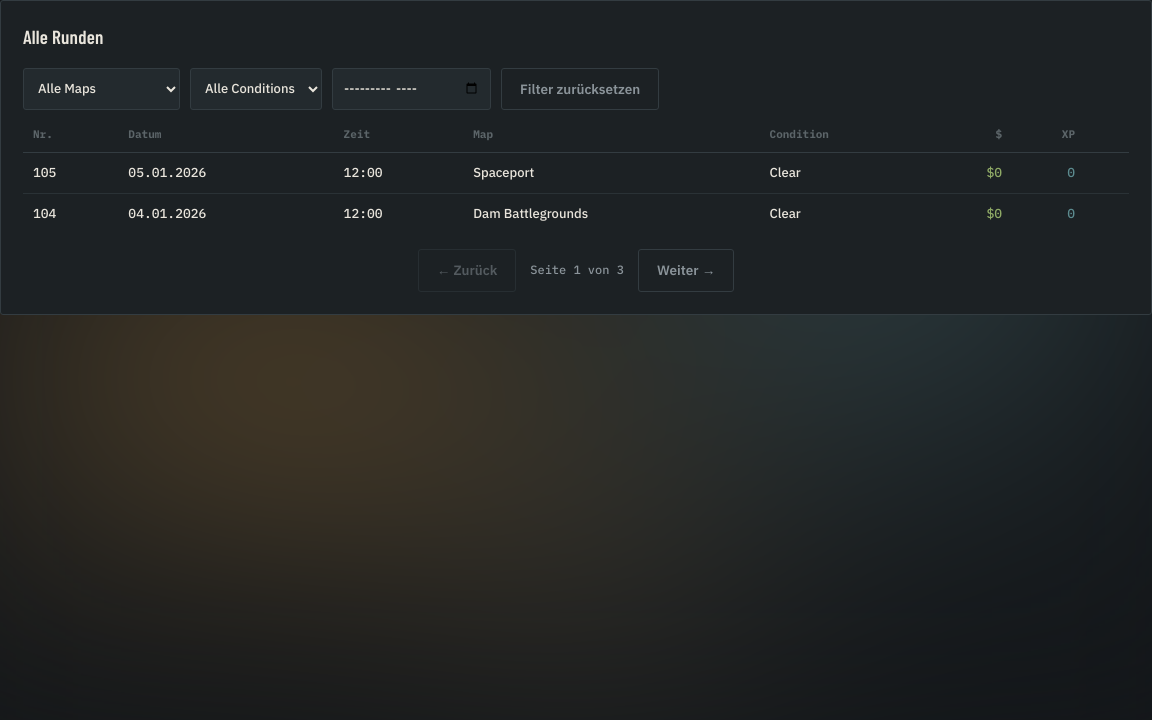
Test: ListView pagination › jumps back to page 1 when a filter changes
Step 1. Click the button "Weiter →" → point(686, 270), box [638,249,734,292]
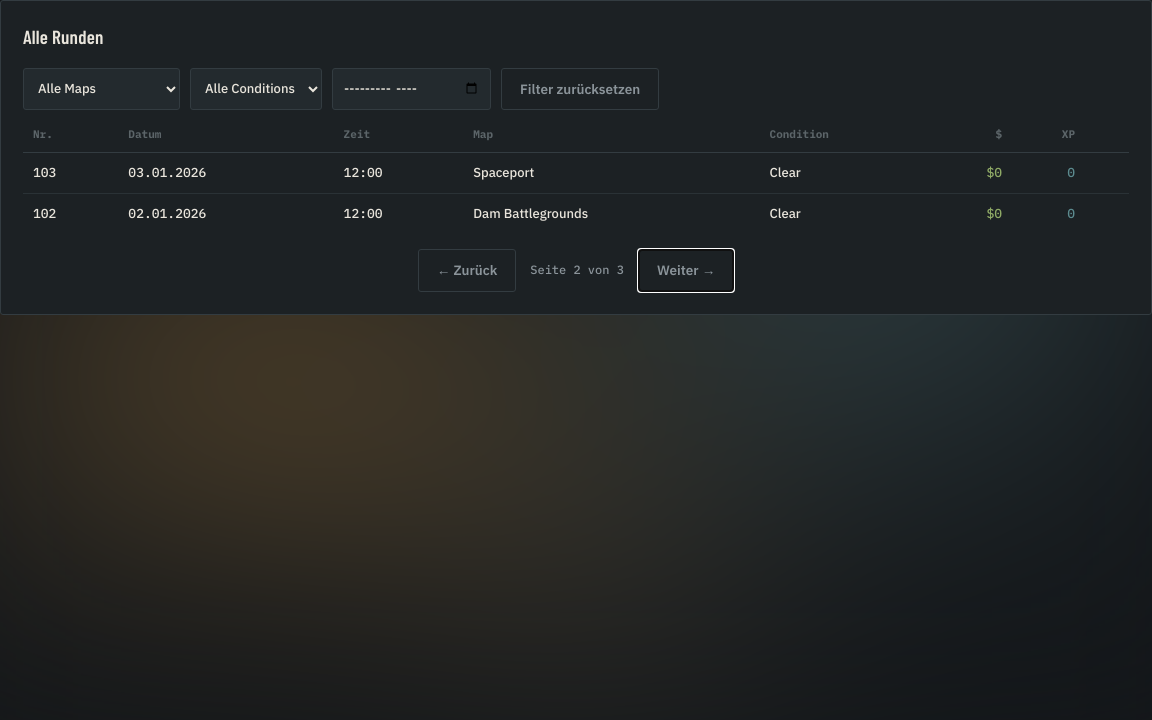
Result: the text "Seite 2 von 3" is shown at [530,262,624,278]
Step 2. Select "Spaceport" in the 1st dropdown → point(102, 89), box [23,68,180,110]
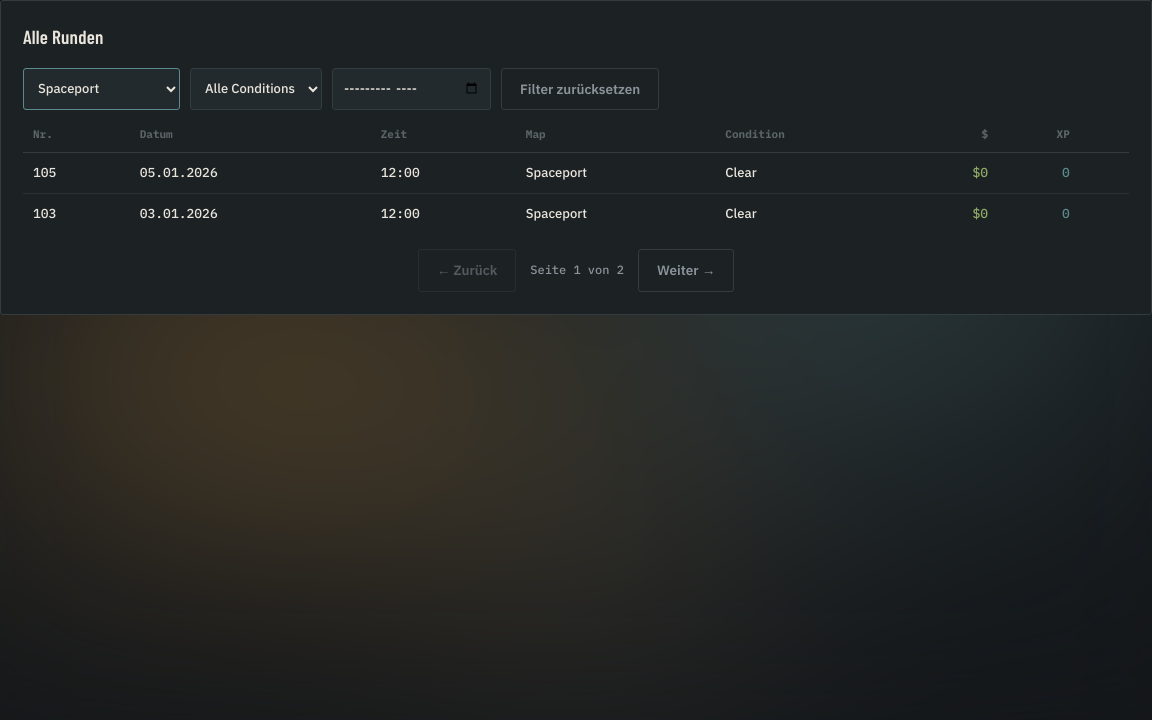
Result: the text "Seite 1 von 2" is shown at [530,262,624,278]
